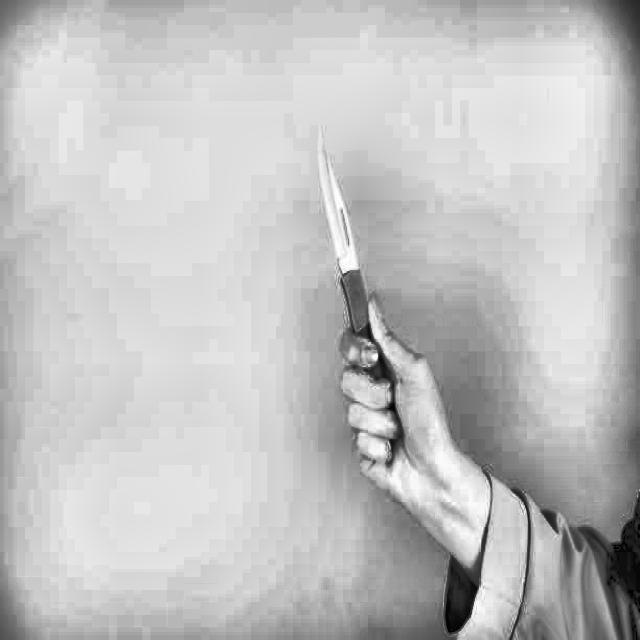pisau: (316, 108, 415, 463)
